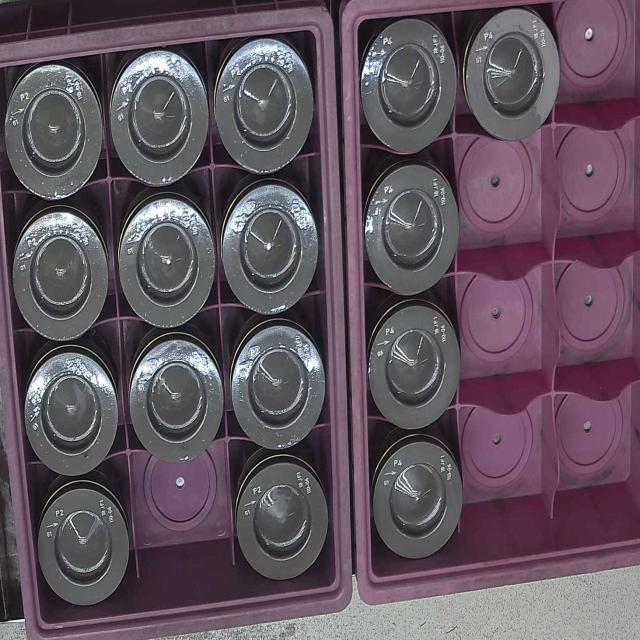P2: (6, 70, 105, 200), (117, 54, 209, 190), (217, 42, 311, 175), (224, 187, 322, 313), (11, 218, 111, 339), (238, 453, 330, 583), (22, 353, 118, 475), (231, 324, 323, 450), (122, 205, 217, 322), (36, 485, 131, 602), (132, 342, 221, 458)
P4: (364, 22, 458, 154), (465, 13, 557, 138), (368, 168, 456, 298), (370, 304, 458, 430), (376, 438, 463, 561)
